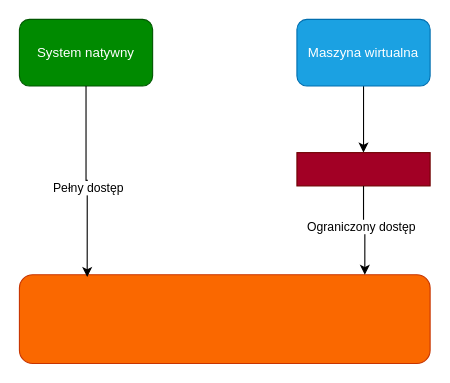
Some shapes in this 450 by 383 pixel diagram are drawn without their labels. The centre of each missing label's shape, as x and y in pixels:
"Hipernadzorca" goes at (363,169).
"PCI/USB" goes at (224,319).
